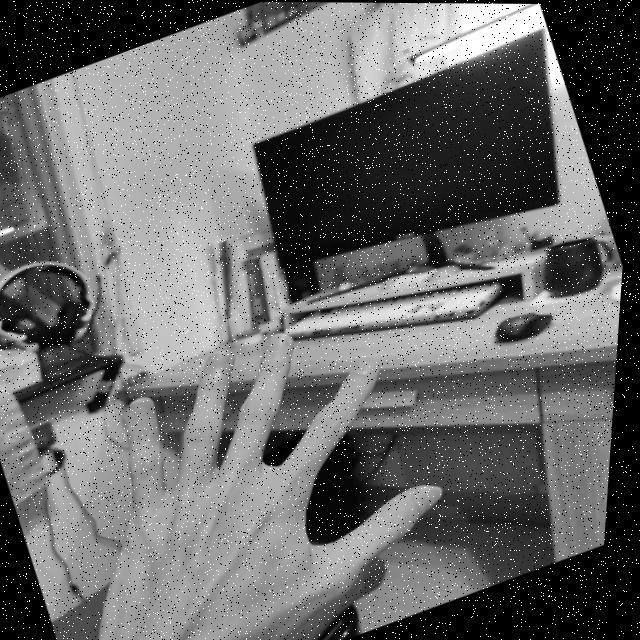no-gloves: (18, 285, 492, 640)
